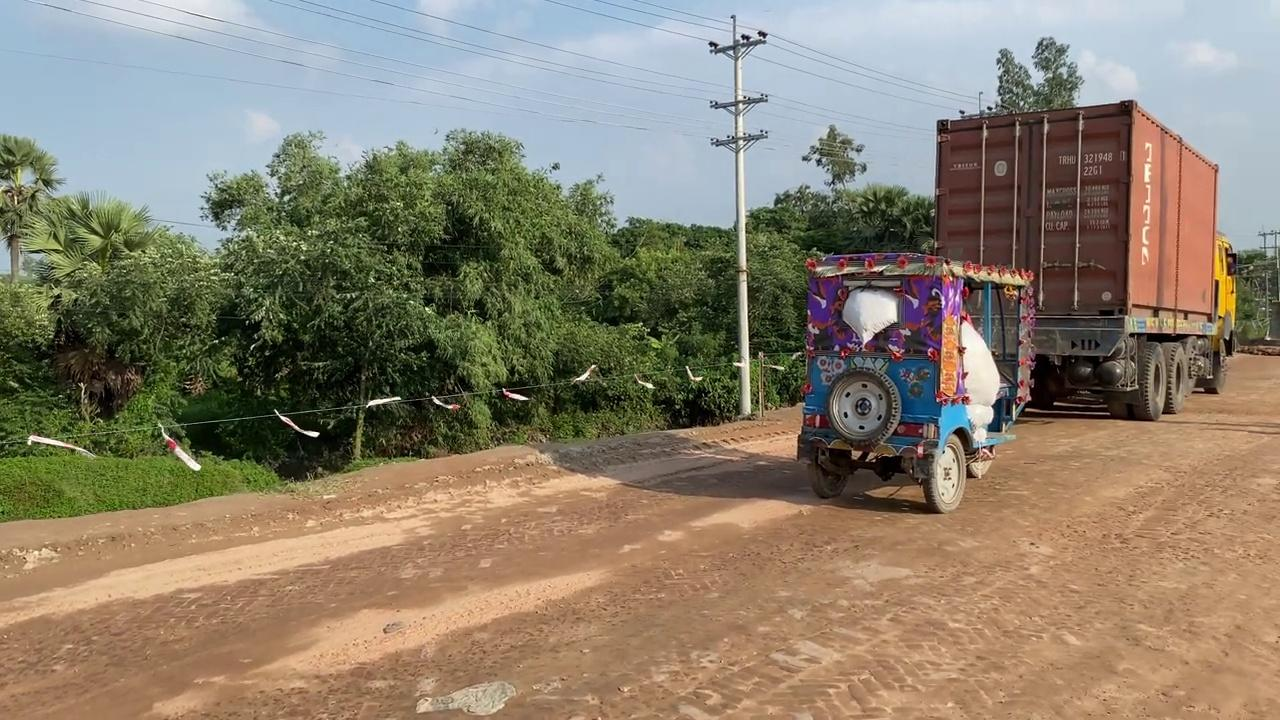Pole: (706, 15, 769, 417)
Traffic-sign: (0, 131, 64, 282)
Tree: (931, 98, 1234, 420), (795, 249, 1037, 513)
